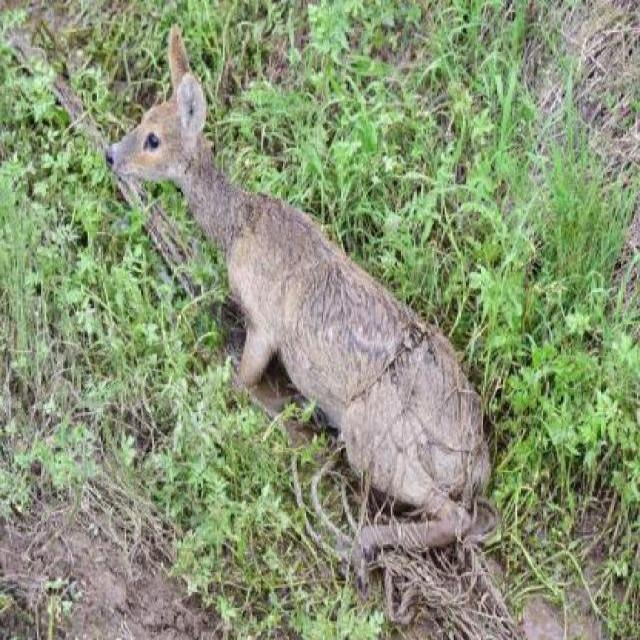deer: (94, 12, 503, 572)
